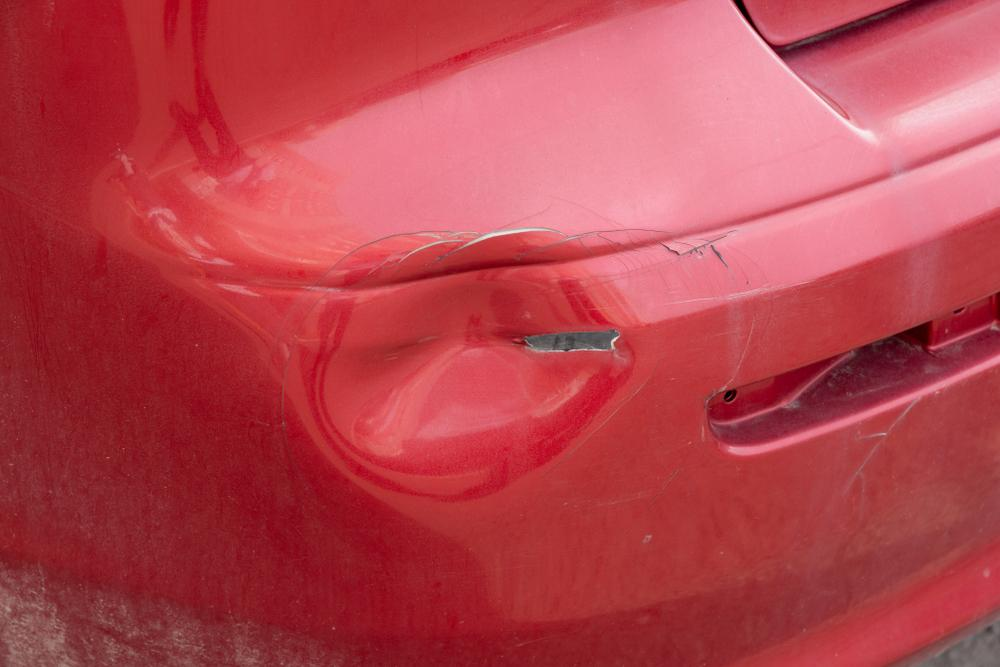dent: (307, 231, 650, 497)
